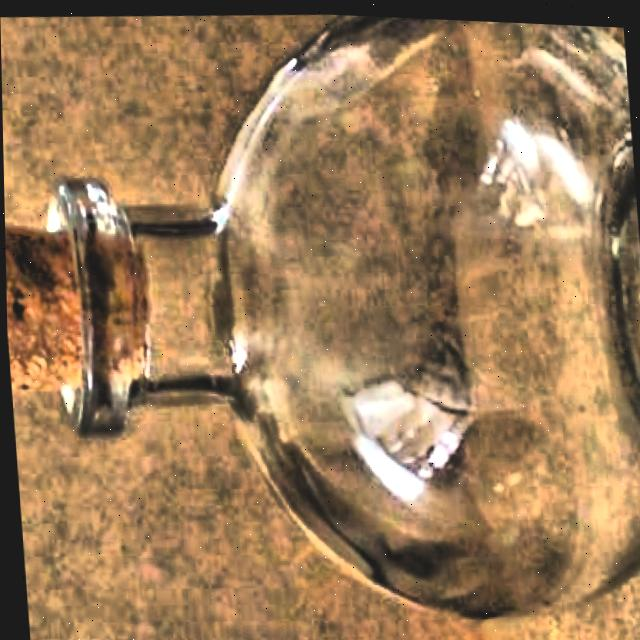glass: (47, 13, 640, 615)
